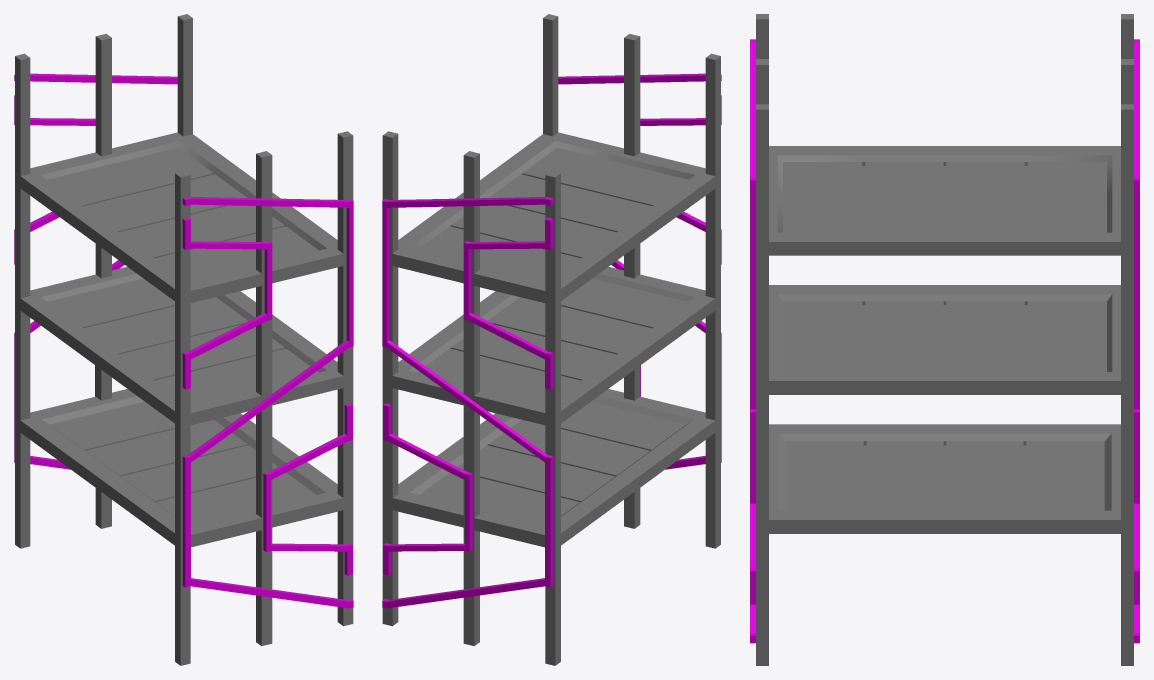
The model's file is rack.fbx.
3 renders of one model, left to right at view 1: azimuth 30°, elevation 25°; view 2: azimuth 150°, elevation 25°; view 3: azimuth 270°, elevation 25°, orthographic. The views are drawn at different scales.
Visible parts, largest first — view 1: pCube19; view 2: pCube19; view 3: pCube19.
Boxes of the visible parts, x1=… form: pCube19: x1=14, y1=14, x2=353, y2=665; pCube19: x1=382, y1=14, x2=721, y2=665; pCube19: x1=750, y1=14, x2=1139, y2=665.
Bounding box in the file's own units: 1.08 × 2.91 × 1.85.
